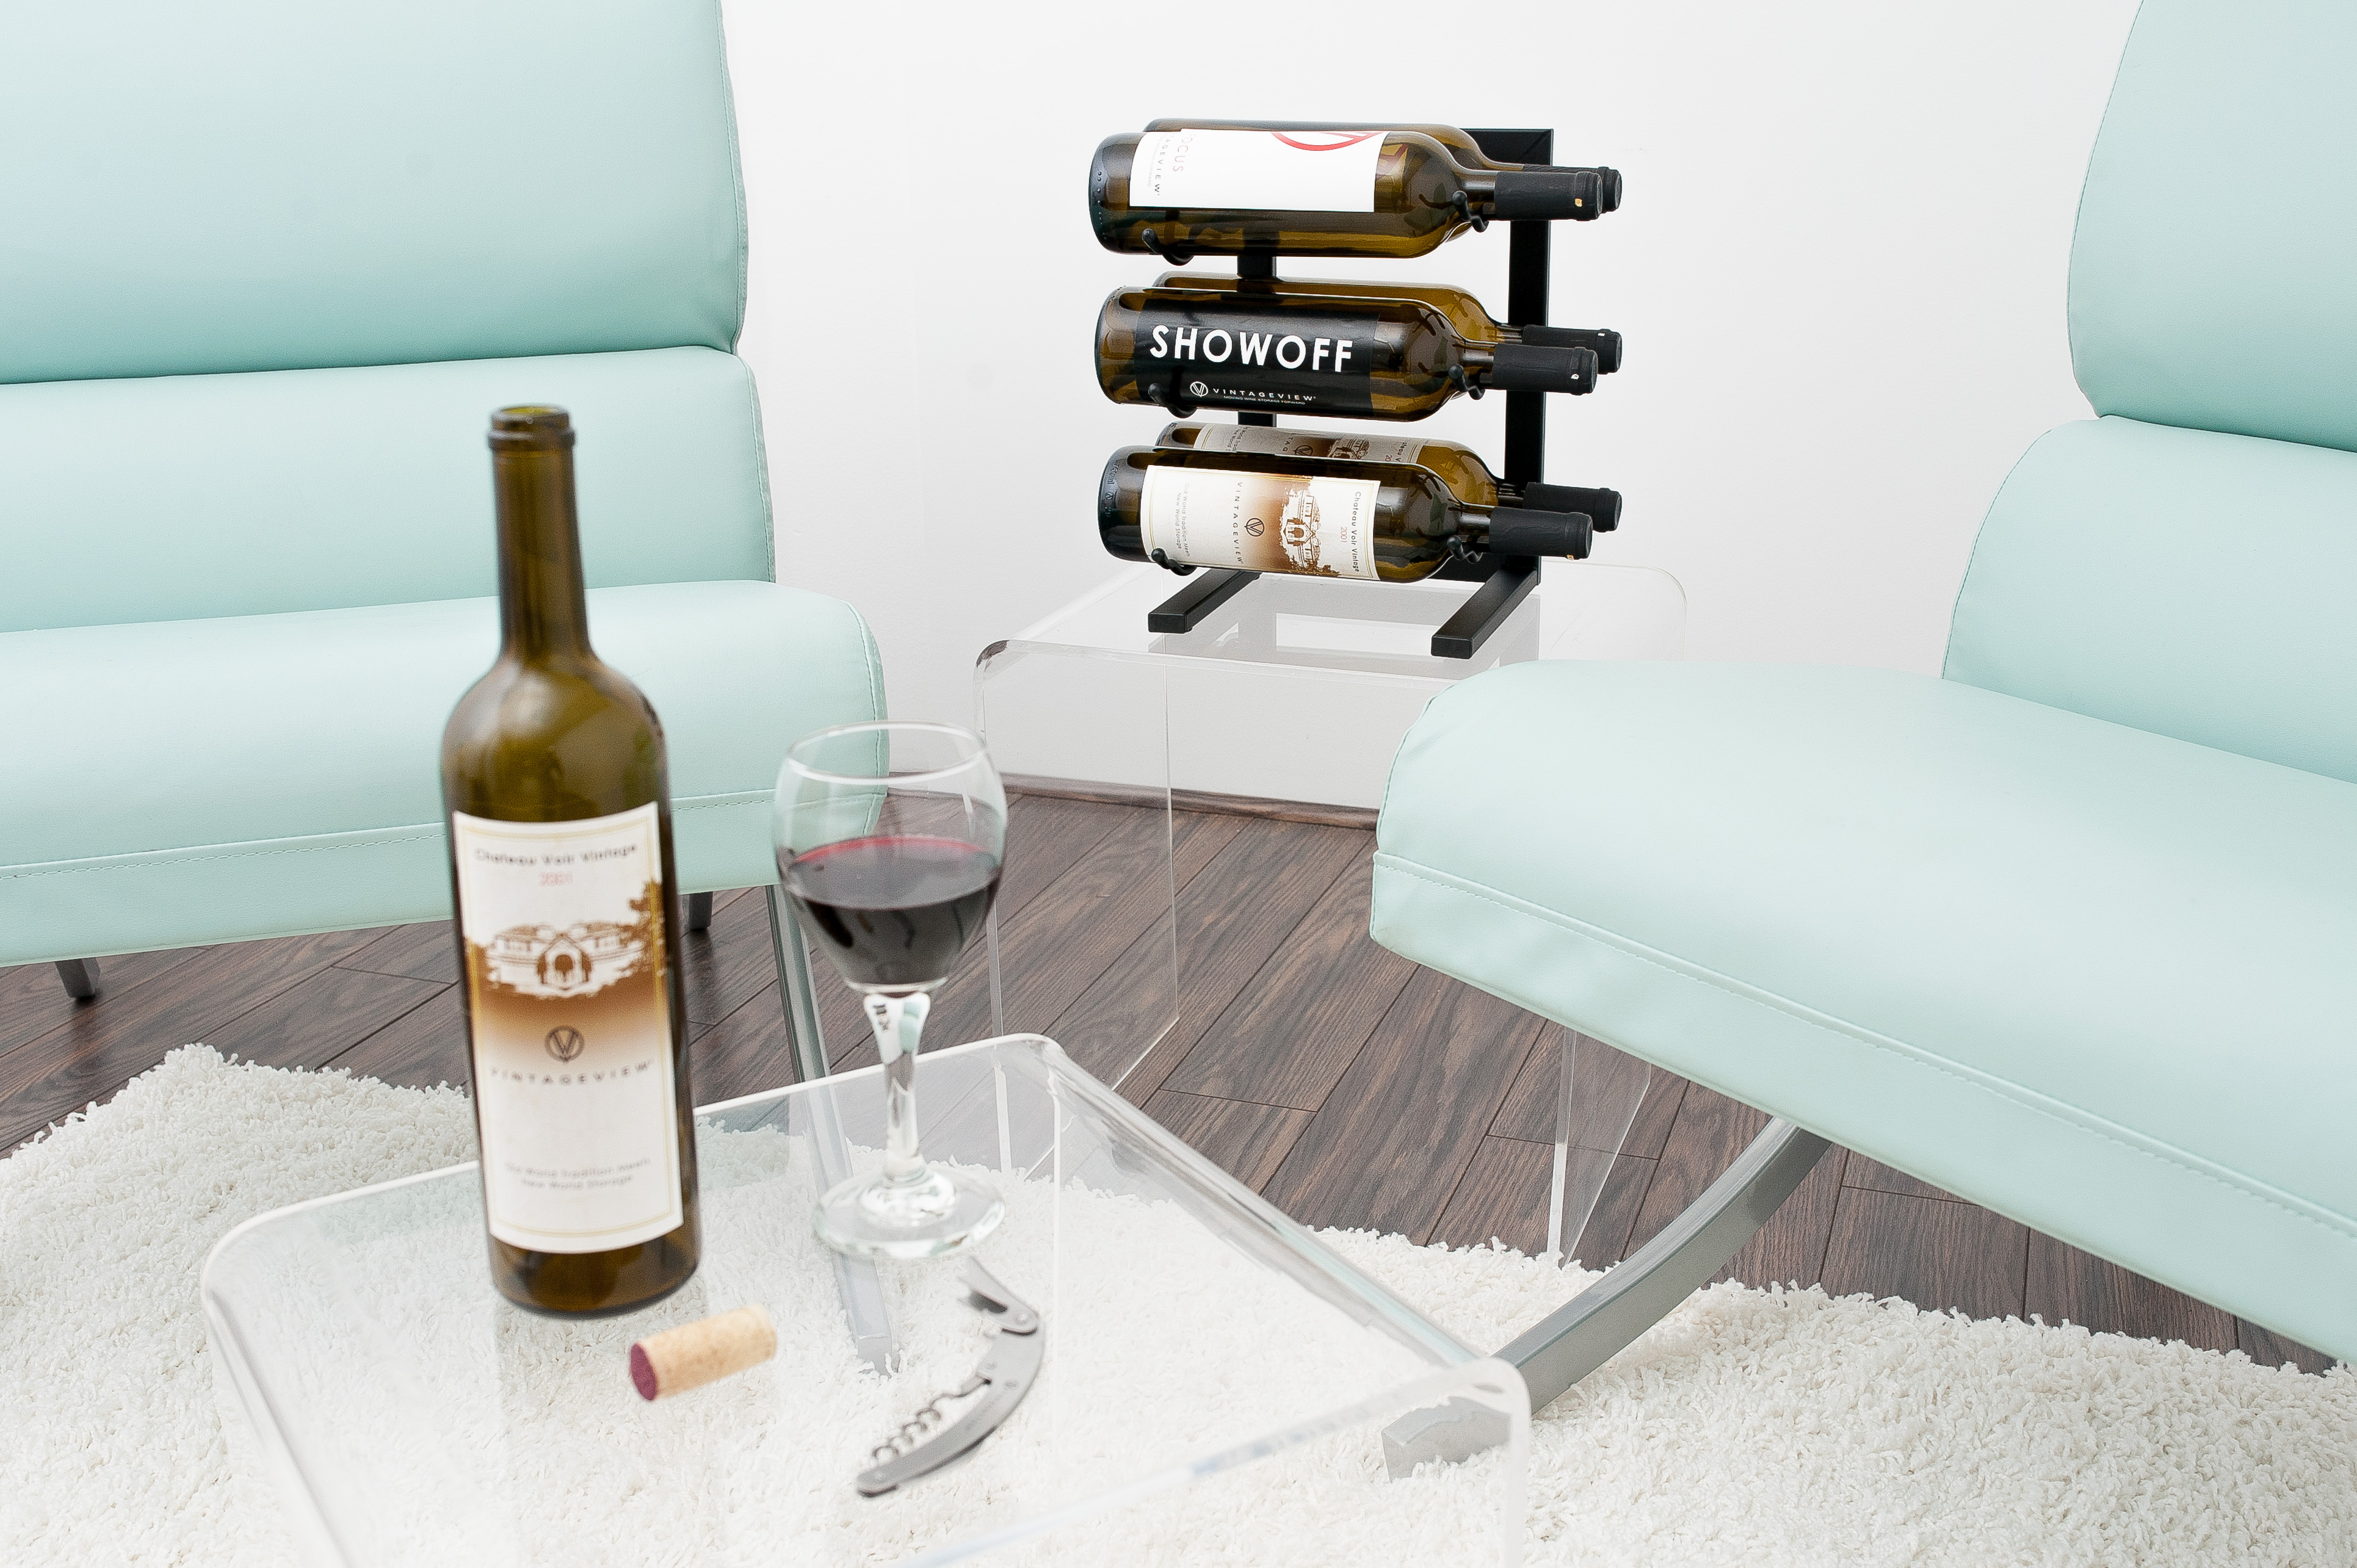bottle: (420, 383, 716, 1298), (1092, 446, 1601, 600), (1087, 290, 1608, 434), (1081, 131, 1627, 266), (1153, 415, 1636, 551), (1144, 269, 1626, 401), (1137, 112, 1624, 233)
